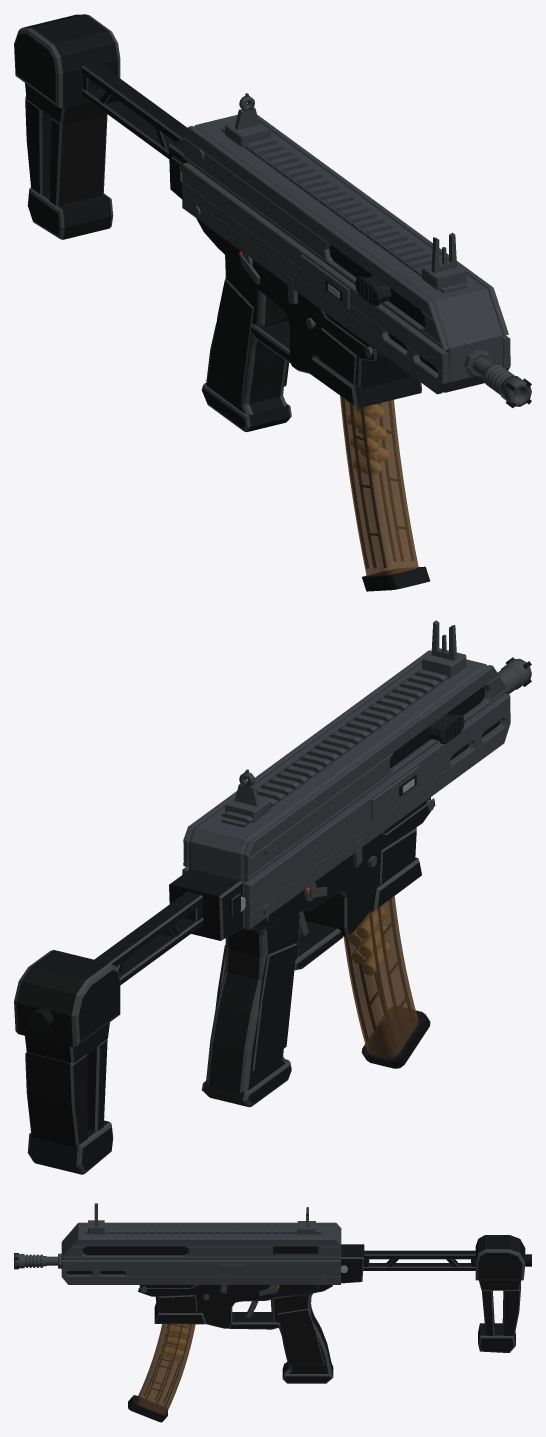
The model's file is carbine.glb.
3 renders of one model, top to bottom at view 1: azimuth 30°, elevation 25°; view 2: azimuth 150°, elevation 25°; view 3: azimuth 270°, elevation 25°, orthographic. The views are drawn at different scales.
Parts seen in each view (by area): view 1: body, mag, sights, charging; view 2: body, mag, sights, charging; view 3: body, mag, sights.
Boxes of the visible parts, bbox=[...] form: body: bbox=[14, 14, 531, 432]; mag: bbox=[340, 395, 430, 591]; sights: bbox=[225, 93, 466, 290]; charging: bbox=[355, 276, 391, 305]; body: bbox=[14, 650, 531, 1174]; mag: bbox=[343, 896, 430, 1068]; sights: bbox=[225, 620, 466, 822]; charging: bbox=[428, 714, 464, 743]; body: bbox=[14, 1222, 531, 1383]; mag: bbox=[128, 1324, 195, 1422]; sights: bbox=[88, 1203, 315, 1234].
Bounding box in the file's own units: 0.0602 × 0.2836 × 0.6263.
